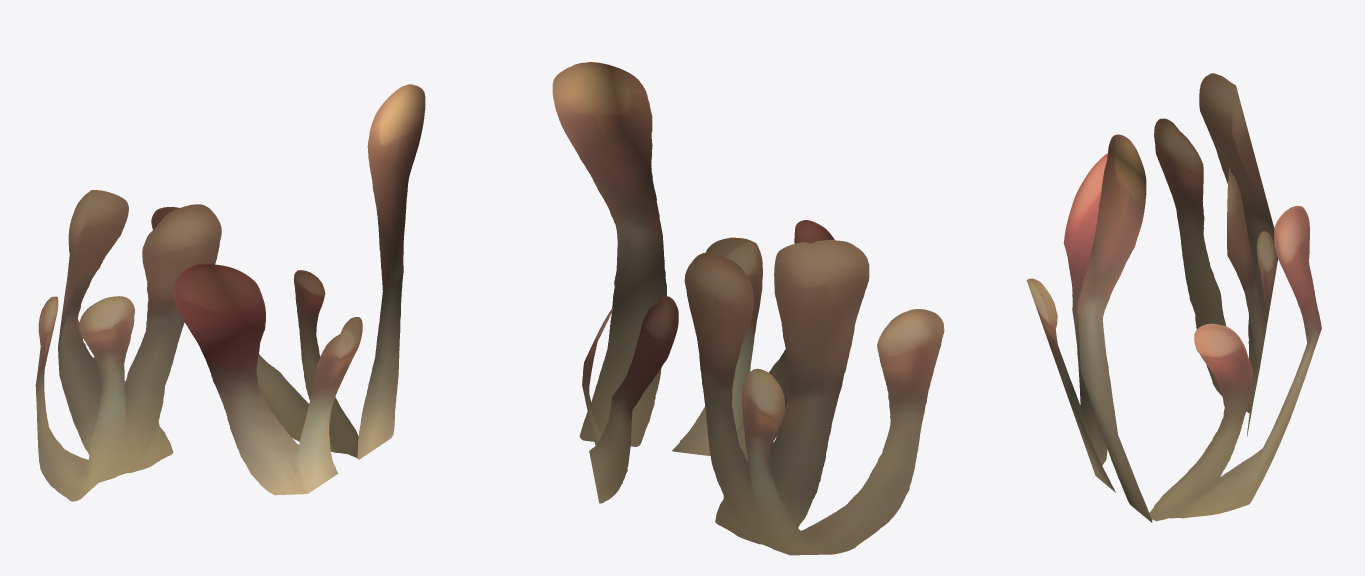
The model's file is sav_grass_bulb.fbx.
The picture shows the model from 3 angles, left to right: view 1: azimuth 30°, elevation 25°; view 2: azimuth 150°, elevation 25°; view 3: azimuth 270°, elevation 25°; orthographic projection. The views are drawn at different scales.
Parts seen in each view (by area): view 1: sav_grass_bulb.001; view 2: sav_grass_bulb.001; view 3: sav_grass_bulb.001.
Part boxes in pixels (x1,y1,x2,y2): sav_grass_bulb.001: [35, 84, 425, 501]; sav_grass_bulb.001: [552, 62, 944, 555]; sav_grass_bulb.001: [1026, 73, 1321, 522].
Size of the model in its own units: 0.272 by 0.2399 by 0.1544.
Materials: 1 (1 with a texture image).
